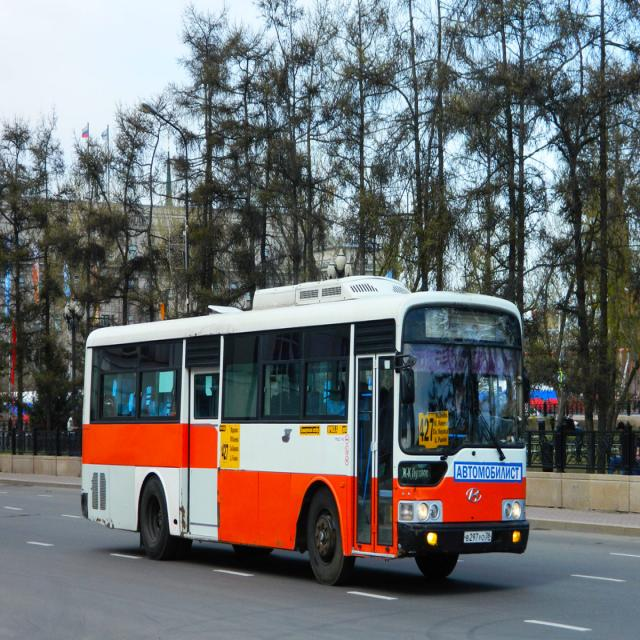number-of-bus: (419, 417, 435, 445), (222, 444, 230, 462)
